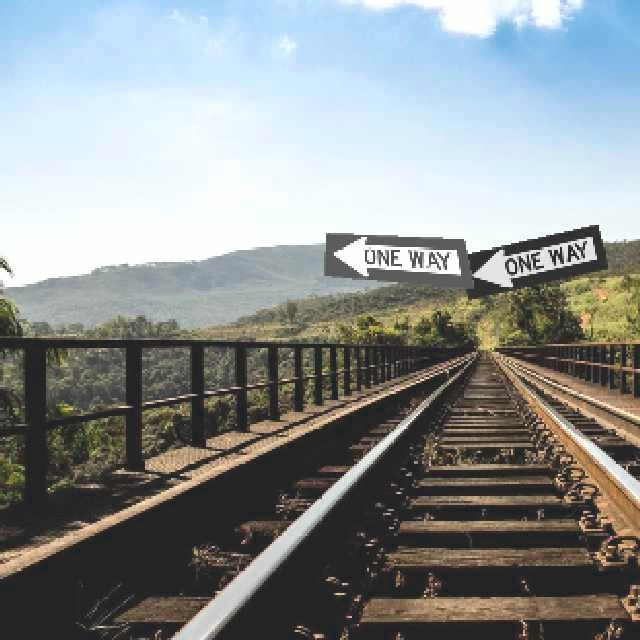ONE_WAY_ left: (456, 222, 607, 299), (322, 231, 473, 288)
